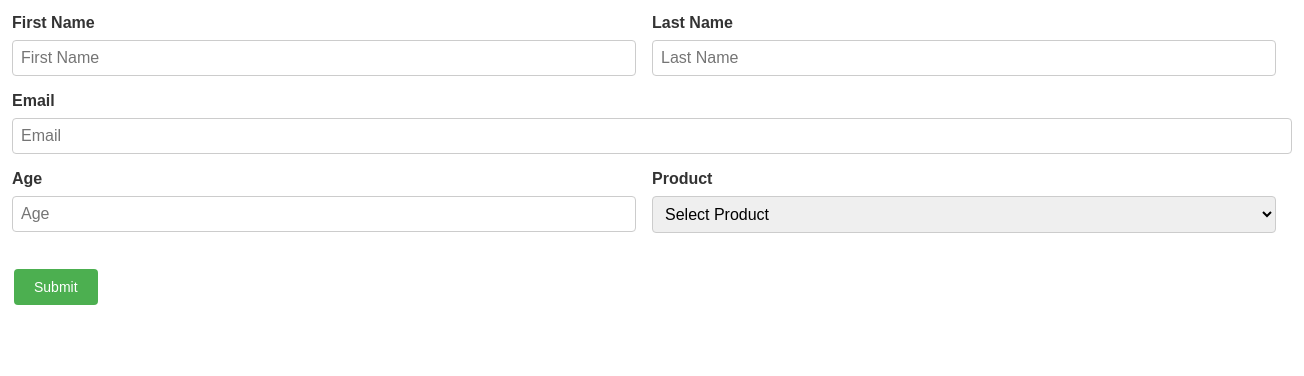
it: InsuranceForm › displays error messages for invalid data
The image size is (1304, 376).
Step 1. Click the button "Submit" → (56, 287), box [14,269,98,305]
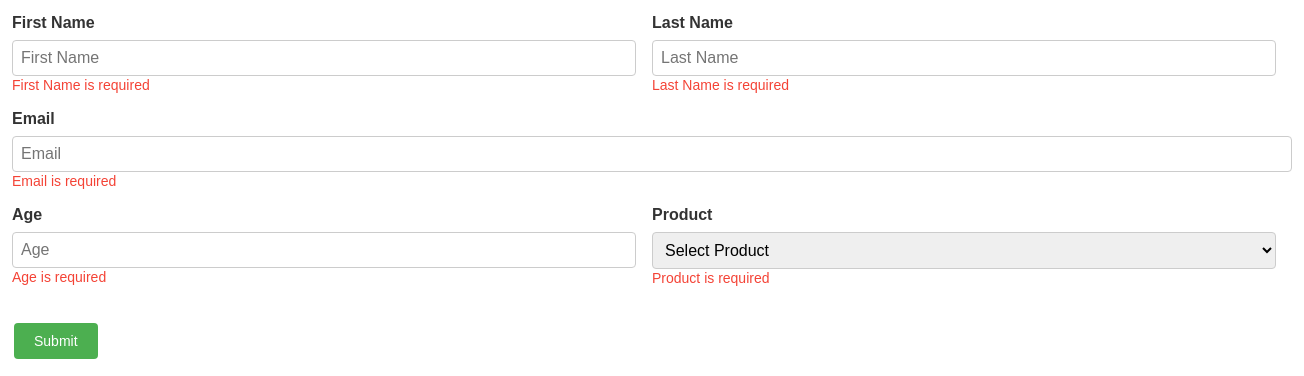
Check: the text "First Name is required" is shown, box [12,77,150,93]
Check: the text "Last Name is required" is shown, box [652,77,789,93]
Check: the text "Email is required" is shown, box [12,173,116,189]
